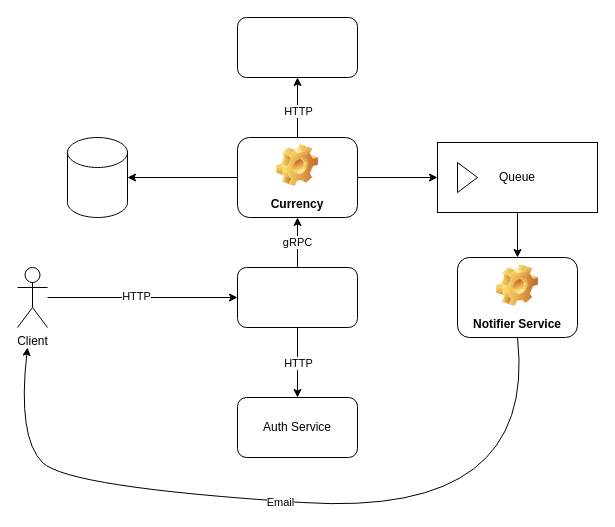
Some shapes in this 615 by 527 pixel diagram are drawn without their labels. The centre of each missing label's shape, as x and y in pixels:
"API Gateway" goes at pixel 297 297.
"Currency-rate API" goes at pixel 297 47.
"PostgreSQL" goes at pixel 97 177.
